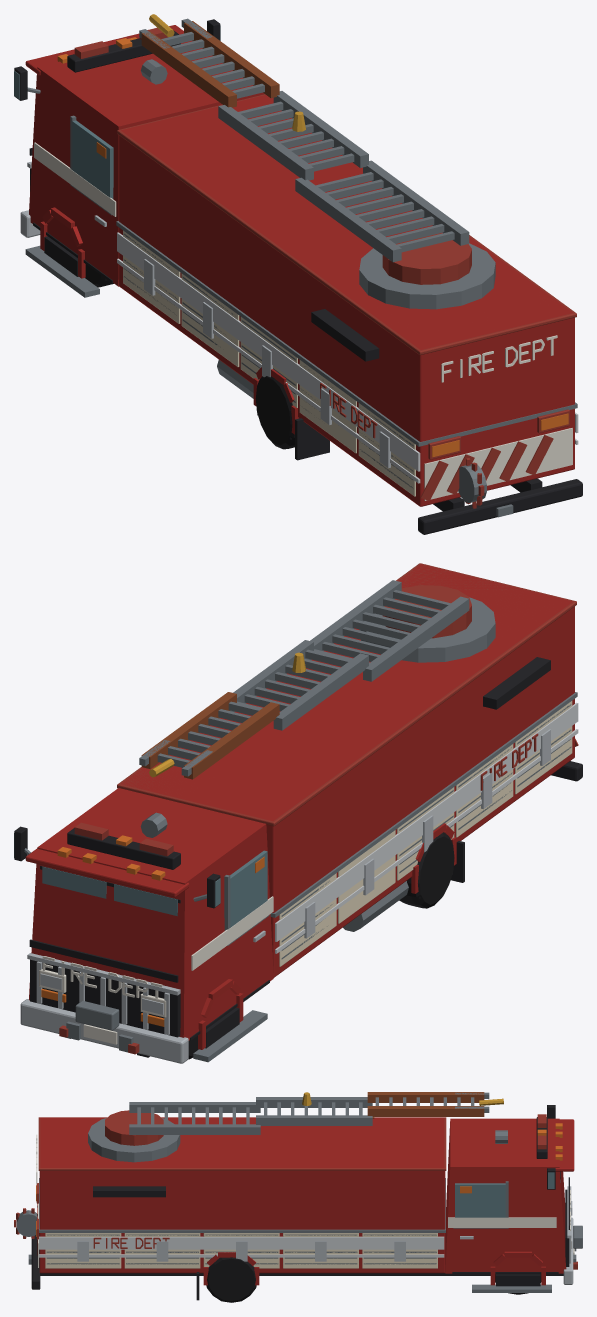
File: ladder_truck.glb
3 views of the same model, one above another, from view 1: azimuth 30°, elevation 25°; view 2: azimuth 150°, elevation 25°; view 3: azimuth 270°, elevation 25° (orthographic). The views are drawn at different scales.
Parts seen in each view (by area): view 1: ladder_truck; view 2: ladder_truck; view 3: ladder_truck.
Part boxes in pixels (left/top/right/bottom): ladder_truck: left=14, top=14, right=582, bottom=534; ladder_truck: left=14, top=563, right=582, bottom=1063; ladder_truck: left=14, top=1092, right=582, bottom=1302.
Size of what is drawn, in the model's own units: 3.22 by 4.17 by 11.7.
Materials: 3 (3 with a texture image).
